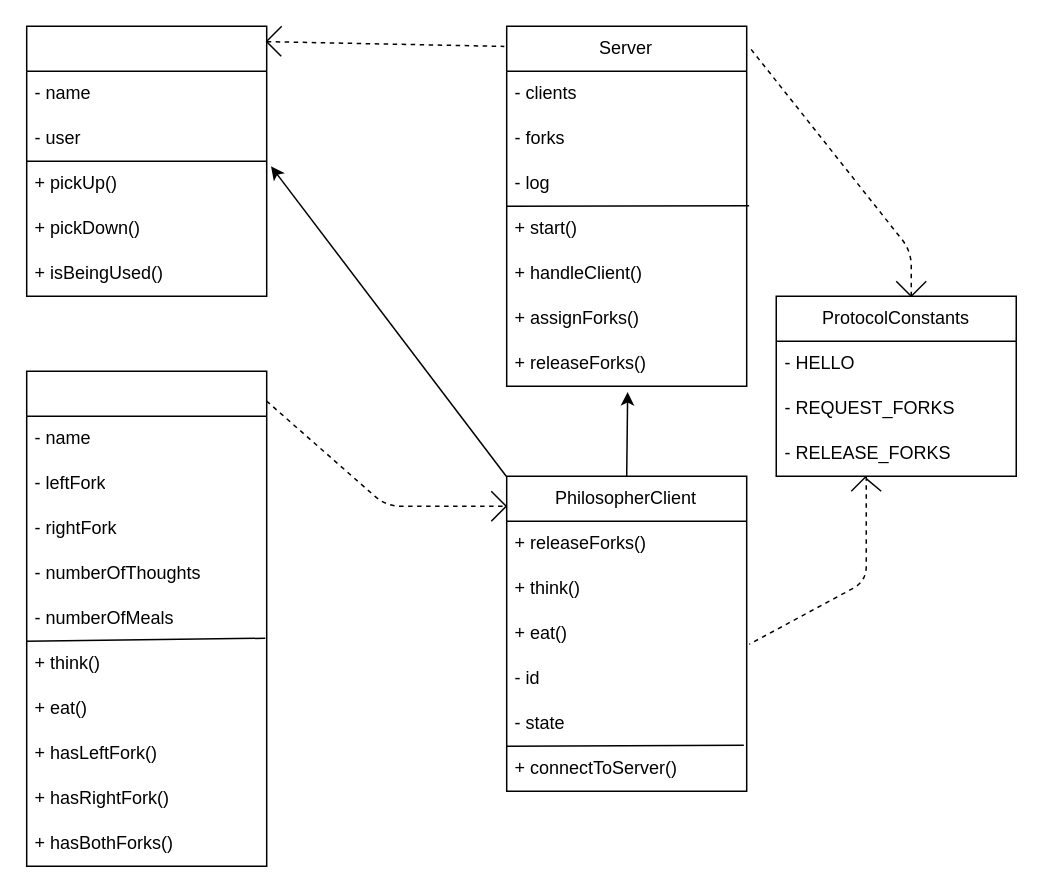
This 1044x893 diagram has some shape labels left out. The shapes that lost their labels are listed below. From the top down, each one's box as (x1, y1, x2, y2) in pixels, then its label:
(25, 25, 267, 296): Fork
(25, 370, 267, 866): Philosopher
